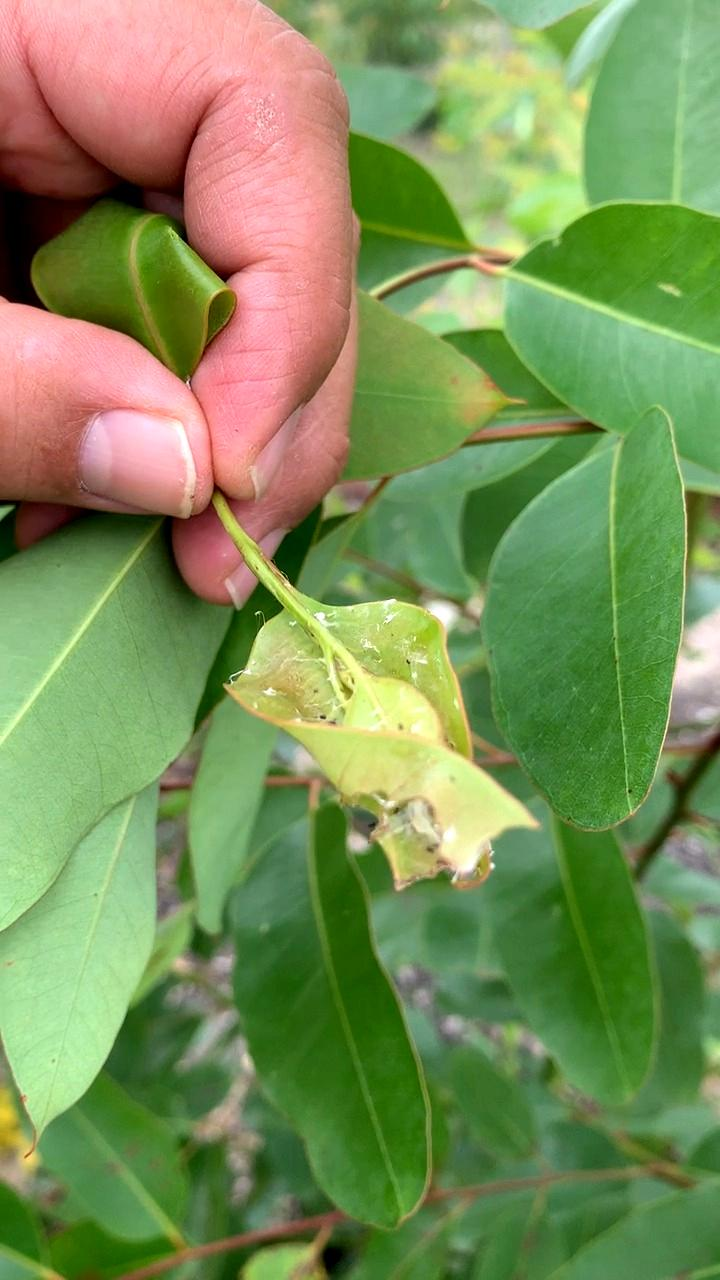Leaf Roller - Leaf: (246, 598, 539, 879)
